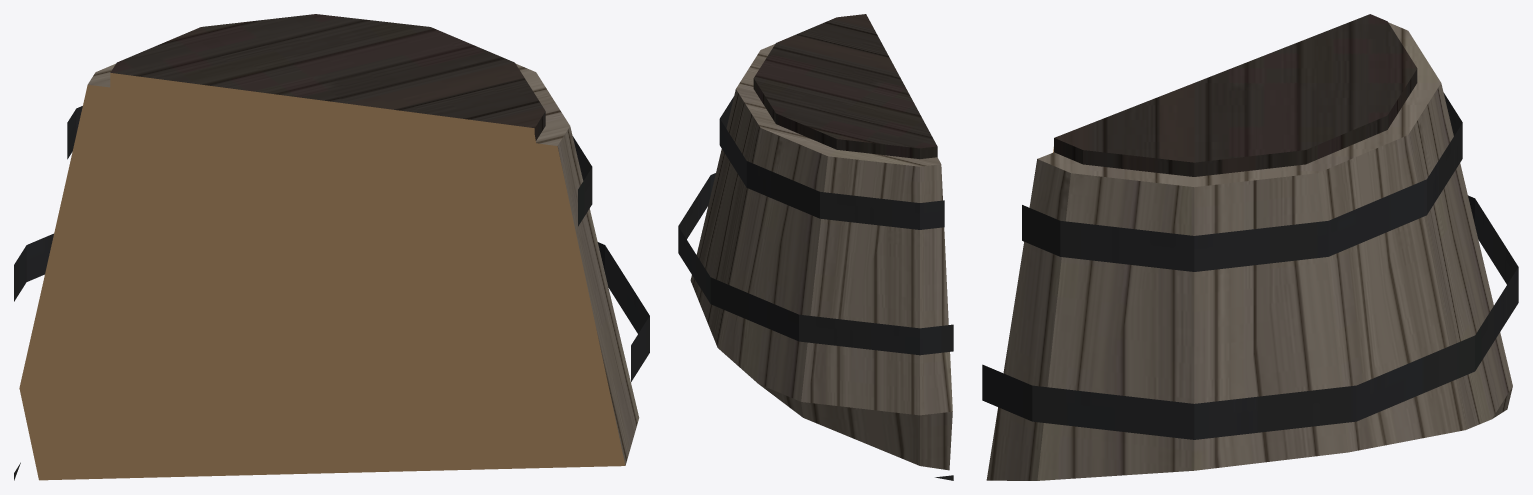
Rendered from barrel_01_shard_0.glb.
3 views of the same model, side by side, from view 1: azimuth 30°, elevation 25°; view 2: azimuth 150°, elevation 25°; view 3: azimuth 270°, elevation 25° (orthographic). The views are drawn at different scales.
Parts seen in each view (by area): view 1: barrel_01_shard_0; view 2: barrel_01_shard_0; view 3: barrel_01_shard_0.
Part boxes in pixels (x1,y1,x2,y2): barrel_01_shard_0: (14,14,649,480); barrel_01_shard_0: (678,14,953,480); barrel_01_shard_0: (982,14,1518,480).
Size of the model in its own units: 0.6521 by 0.5657 by 0.6732.
Materials: 4 (3 with a texture image).
